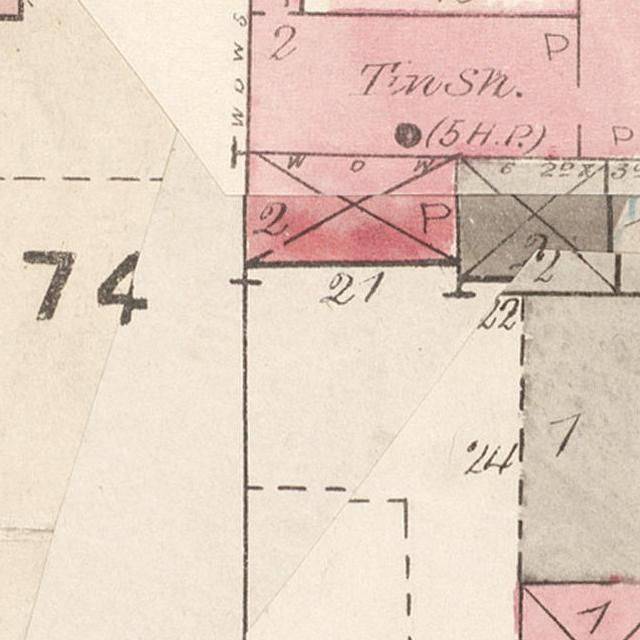building-footprints: (248, 0, 640, 159), (520, 294, 640, 585), (245, 153, 457, 264), (457, 157, 606, 295), (605, 160, 640, 295)
